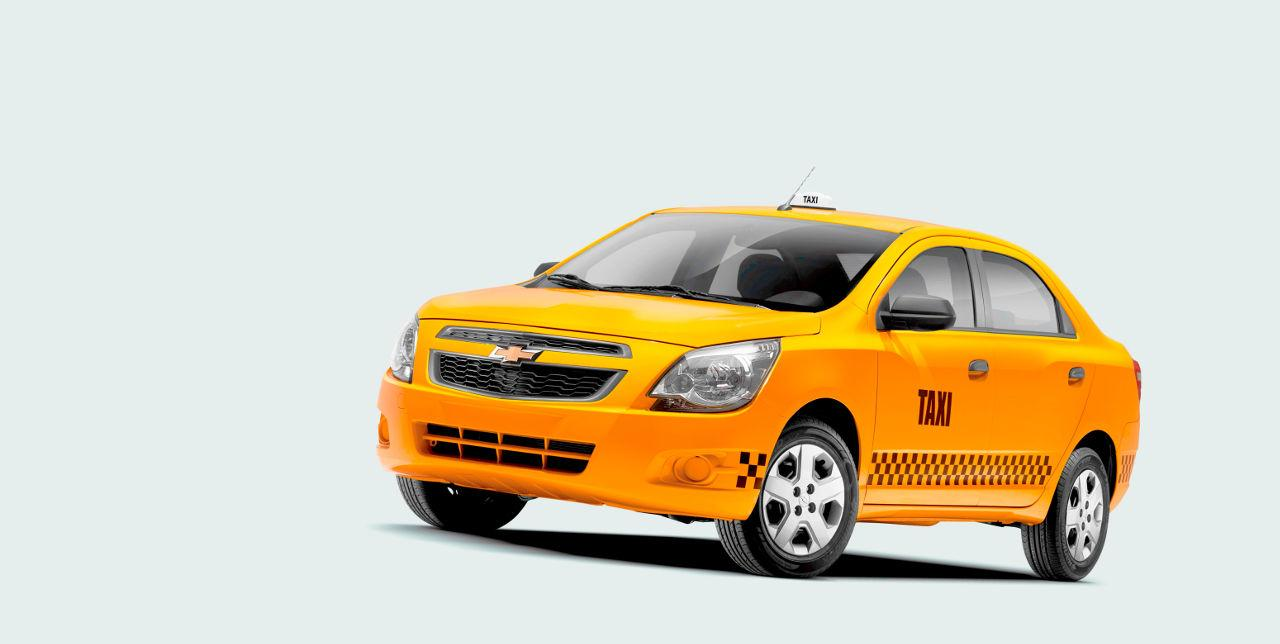taxi: (427, 142, 1280, 644)
